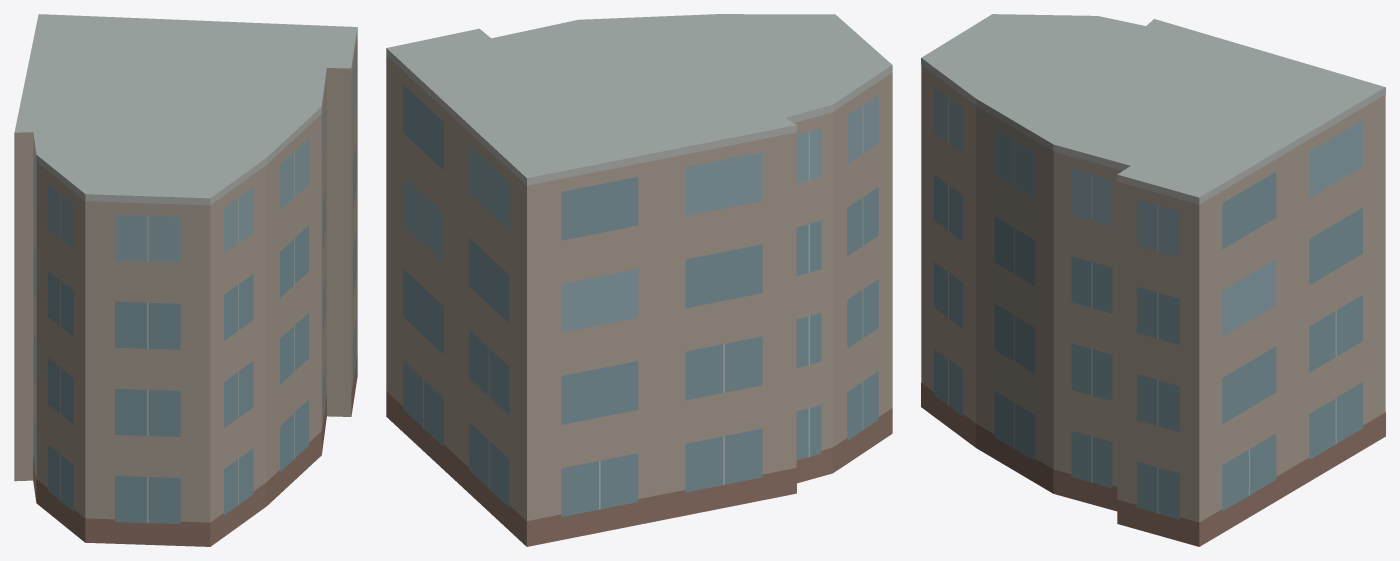
The model's file is survey-upis-32550091.glb.
The picture shows the model from 3 angles, left to right: view 1: azimuth 30°, elevation 25°; view 2: azimuth 150°, elevation 25°; view 3: azimuth 270°, elevation 25°; orthographic projection. The views are drawn at different scales.
Visible parts, largest first — view 1: survey-upis-32550091.tmp; view 2: survey-upis-32550091.tmp; view 3: survey-upis-32550091.tmp.
Boxes of the visible parts, x1=… form: survey-upis-32550091.tmp: x1=14, y1=14, x2=357, y2=546; survey-upis-32550091.tmp: x1=386, y1=14, x2=892, y2=546; survey-upis-32550091.tmp: x1=921, y1=14, x2=1385, y2=546.
Size of the model in its own units: 13.65 by 12.1 by 14.59.
